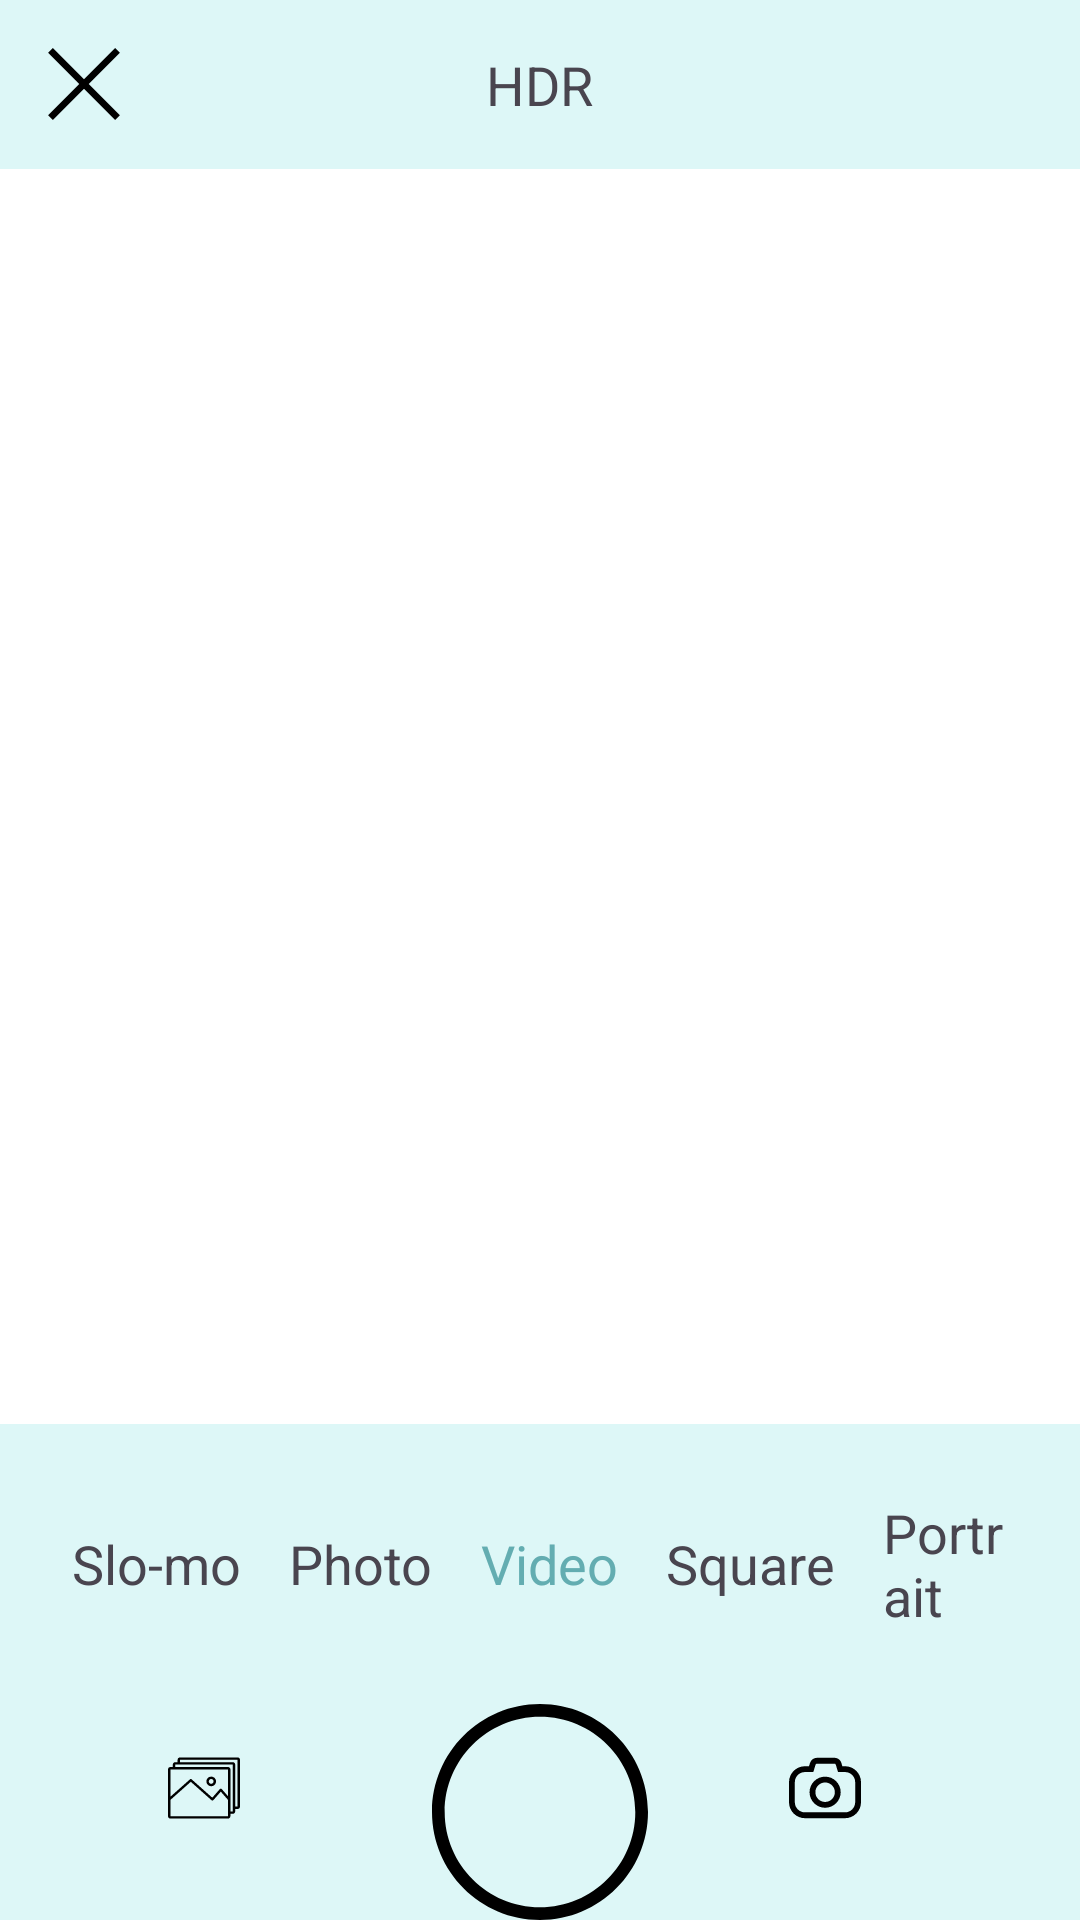

Named icons in this screenshot (1080px×1920px) and their bounding boxes, bbox=(x1, y1, x2, y2):
camera: bbox=(789, 1757, 861, 1819)
cross: bbox=(48, 48, 120, 120)
gallery: bbox=(168, 1757, 240, 1819)
